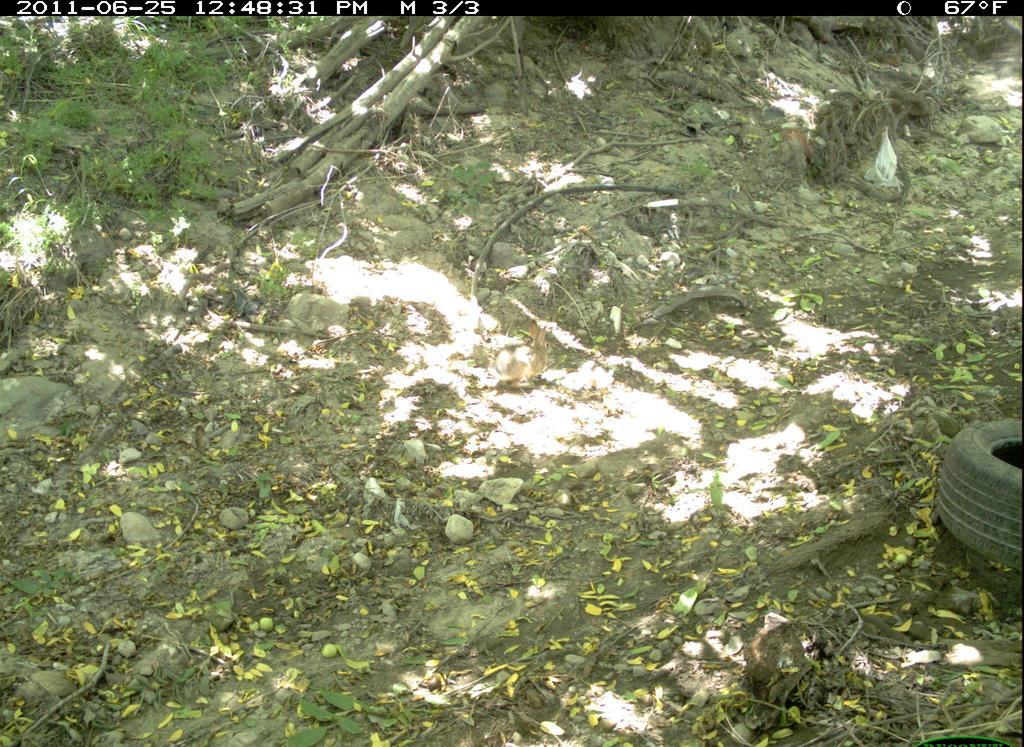rabbit: (487, 314, 565, 400)
